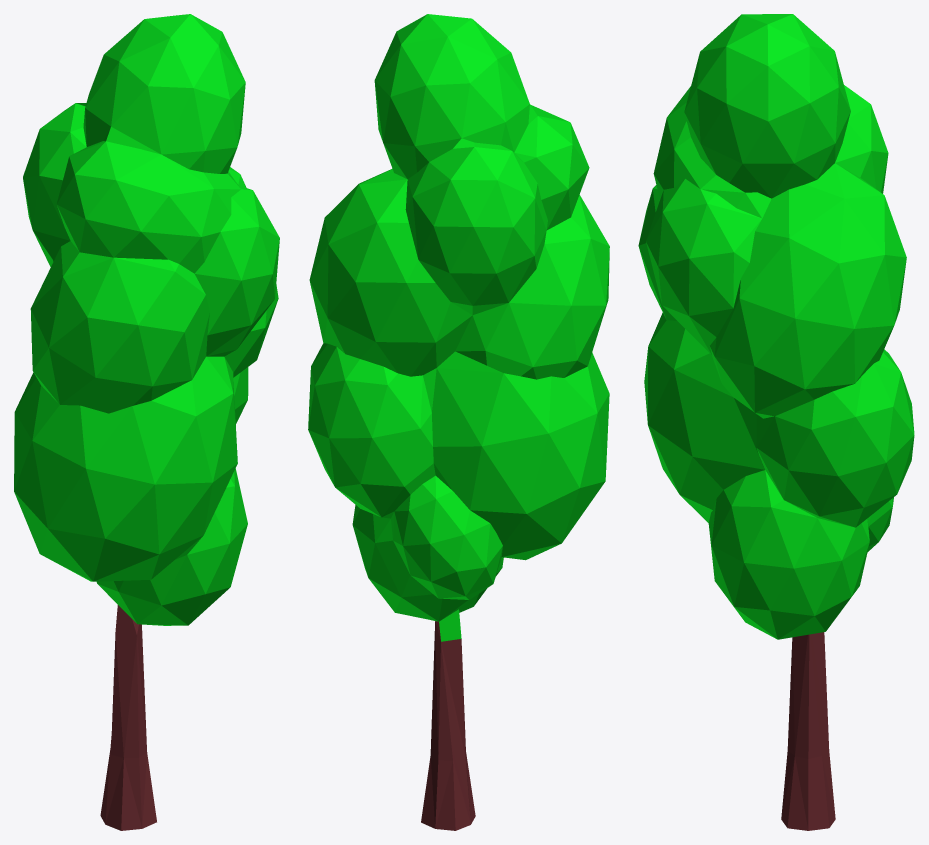
The picture shows the model from 3 angles, left to right: view 1: azimuth 30°, elevation 25°; view 2: azimuth 150°, elevation 25°; view 3: azimuth 270°, elevation 25°; orthographic projection. The views are drawn at different scales.
Parts seen in each view (by area): view 1: _7_tree; view 2: _7_tree; view 3: _7_tree.
Boxes of the visible parts, x1,y1,x2,y2 form: _7_tree: [14, 14, 279, 830]; _7_tree: [308, 14, 609, 830]; _7_tree: [638, 14, 914, 830].
Size of the model in its own units: 0.9204 by 2.78 by 0.8524.
